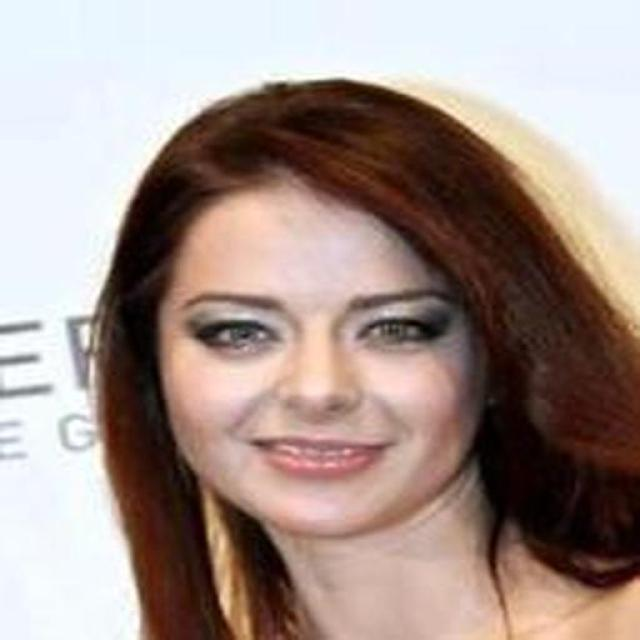bareface: (130, 118, 504, 530)
